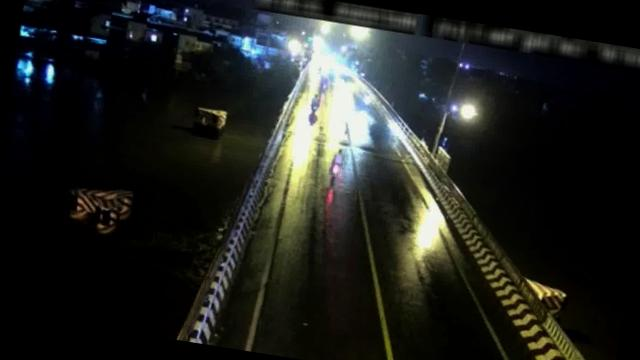Bike: (328, 146, 347, 178)
